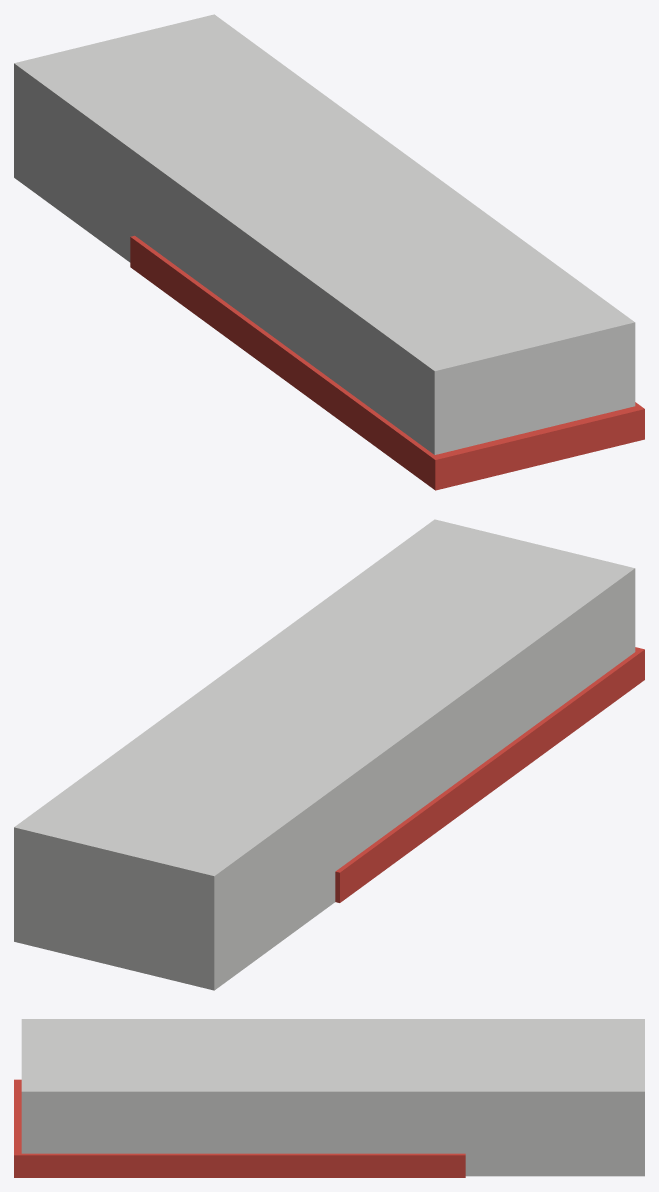
The model's file is sm_product_sneakers.glb.
3 views of the same model, one above another, from view 1: azimuth 30°, elevation 25°; view 2: azimuth 150°, elevation 25°; view 3: azimuth 270°, elevation 25° (orthographic). The views are drawn at different scales.
Visible parts, largest first — view 1: sneakers_0, sneakers_2, sneakers_1; view 2: sneakers_2, sneakers_0, sneakers_1; view 3: sneakers_0, sneakers_2, sneakers_1.
Boxes of the visible parts, box(x1,y1,x2,y2) form: sneakers_0: box(140, 107, 635, 454); sneakers_2: box(14, 14, 504, 362); sneakers_1: box(130, 235, 644, 490); sneakers_2: box(14, 612, 508, 990); sneakers_0: box(142, 519, 635, 866); sneakers_1: box(335, 647, 644, 902); sneakers_0: box(21, 1019, 457, 1153); sneakers_2: box(208, 1019, 644, 1176); sneakers_1: box(14, 1079, 465, 1177).
Size of what is drawn, in the model's own units: 0.115 by 0.06 by 0.405.
